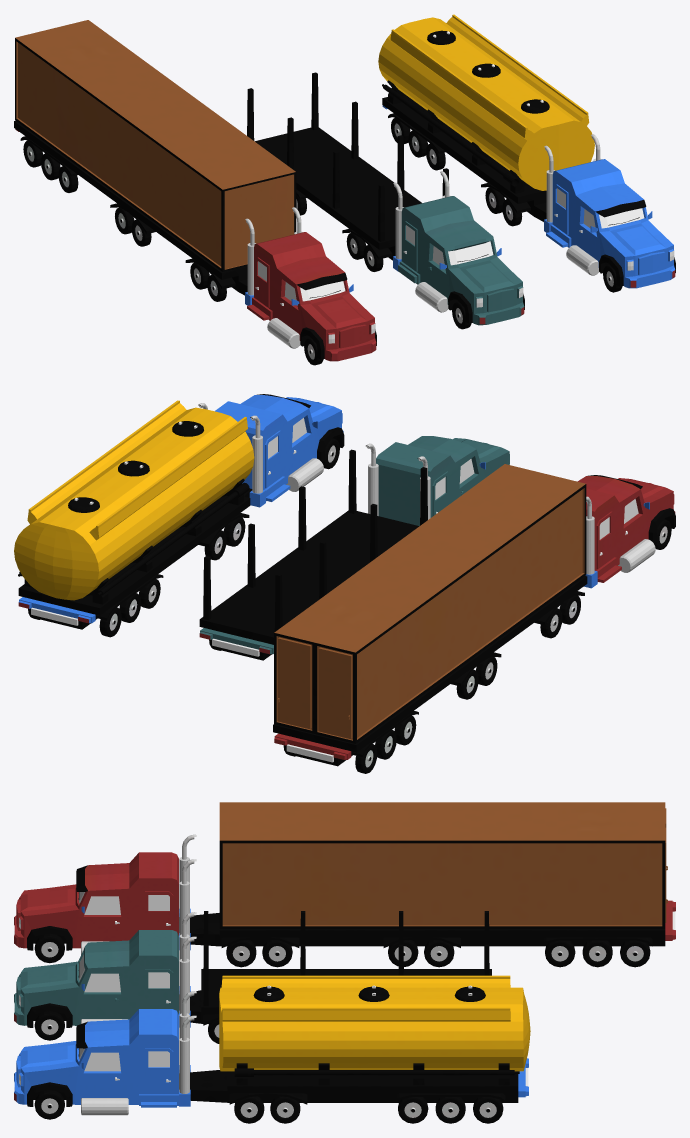
Rendered from Camiones.fbx.
3 views of the same model, one above another, from view 1: azimuth 30°, elevation 25°; view 2: azimuth 150°, elevation 25°; view 3: azimuth 270°, elevation 25° (orthographic). The views are drawn at different scales.
Parts seen in each view (by area): view 1: camion 03, Camion 01, camion 02; view 2: camion 03, Camion 01, camion 02; view 3: camion 03, Camion 01, camion 02.
Boxes of the visible parts, x1,y1,x2,y2 form: camion 03: (14,20,376,365); Camion 01: (378,14,675,292); camion 02: (247,72,524,329); camion 03: (273,464,675,773); Camion 01: (14,394,344,637); camion 02: (199,436,509,660); camion 03: (14,802,675,967); Camion 01: (14,975,530,1123); camion 02: (14,911,491,1043).
Size of the model in its own units: 473 by 143 by 673.
